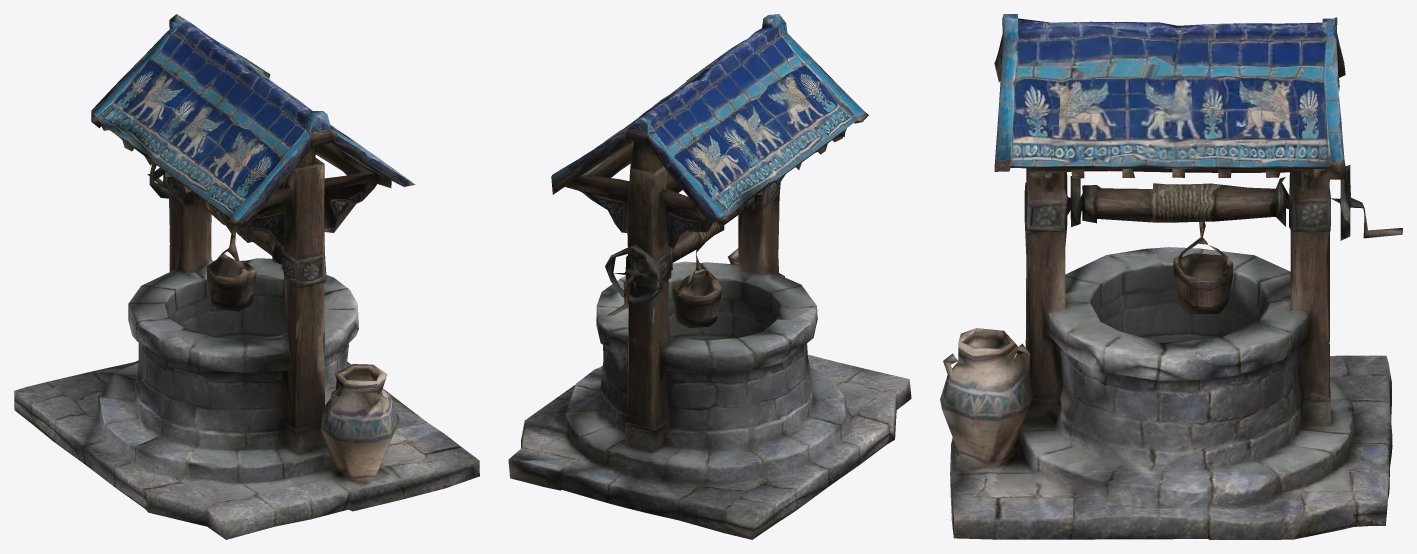
The model's file is well_stone.glb.
3 renders of one model, left to right at view 1: azimuth 30°, elevation 25°; view 2: azimuth 150°, elevation 25°; view 3: azimuth 270°, elevation 25°, orthographic. The views are drawn at different scales.
Visible parts, largest first — view 1: tripo_node_de0b2155-e343-4f17-98cc-6b145627fc5e; view 2: tripo_node_de0b2155-e343-4f17-98cc-6b145627fc5e; view 3: tripo_node_de0b2155-e343-4f17-98cc-6b145627fc5e.
Boxes of the visible parts, <box> form: tripo_node_de0b2155-e343-4f17-98cc-6b145627fc5e: <box>14,14,479,539</box>; tripo_node_de0b2155-e343-4f17-98cc-6b145627fc5e: <box>508,14,911,539</box>; tripo_node_de0b2155-e343-4f17-98cc-6b145627fc5e: <box>940,14,1402,539</box>.
Bounding box in the file's own units: 0.7646 × 0.9803 × 0.918.
Materials: 1 (1 with a texture image).
